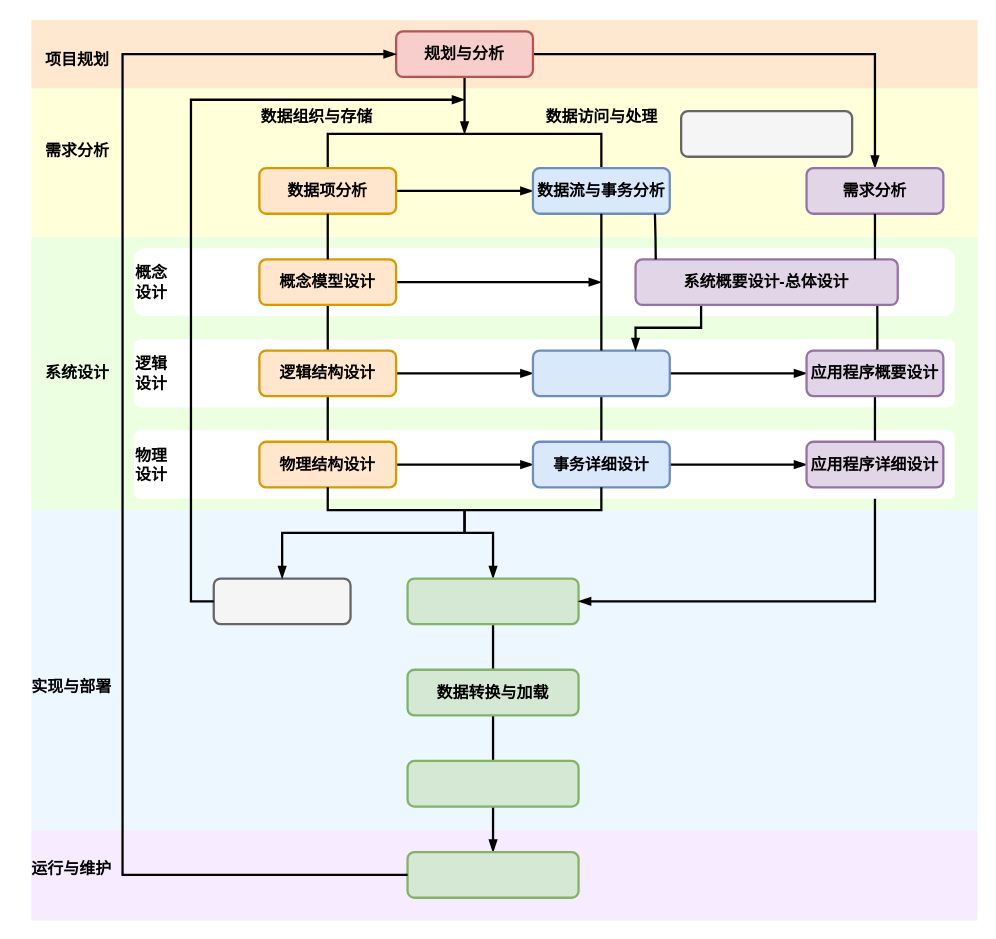
The diagram is 996 pixels wide and 939 high, and some of its shapes have lost their labels. Each missing label, with the centre of its shape:
事务概要设计: point 600,373
性能/存储/安全需求: point 766,133
构造原型（可选）: point 281,601
系统实现: point 492,601
系统测试、部署与交付: point 492,783
系统运行维护: point 492,874
